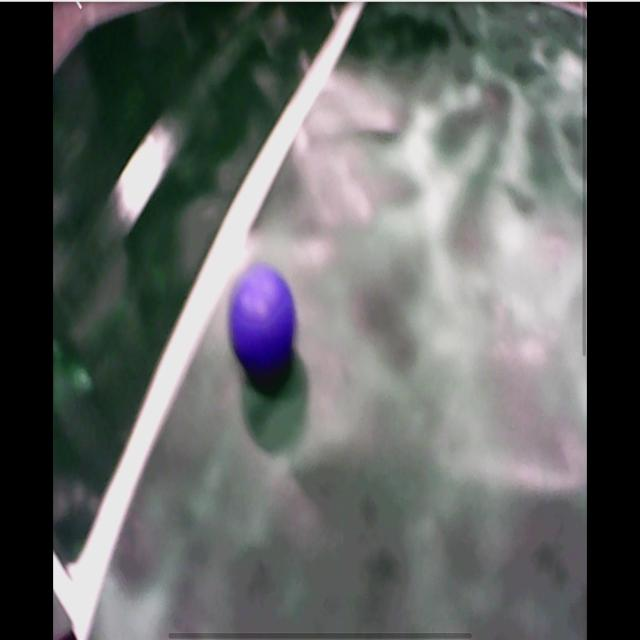ball: (230, 267, 297, 376)
